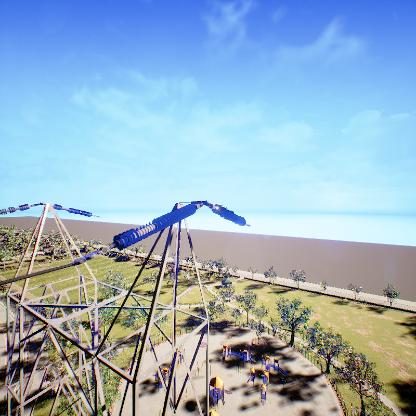insulator: (113, 203, 198, 249), (212, 204, 248, 228), (53, 204, 93, 216)
